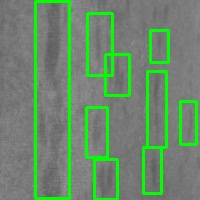inclusion: (35, 1, 69, 198), (87, 13, 112, 75), (147, 71, 166, 147), (86, 107, 107, 157), (105, 54, 129, 95), (94, 159, 117, 199), (143, 147, 161, 193), (180, 101, 196, 144), (150, 30, 168, 62)
